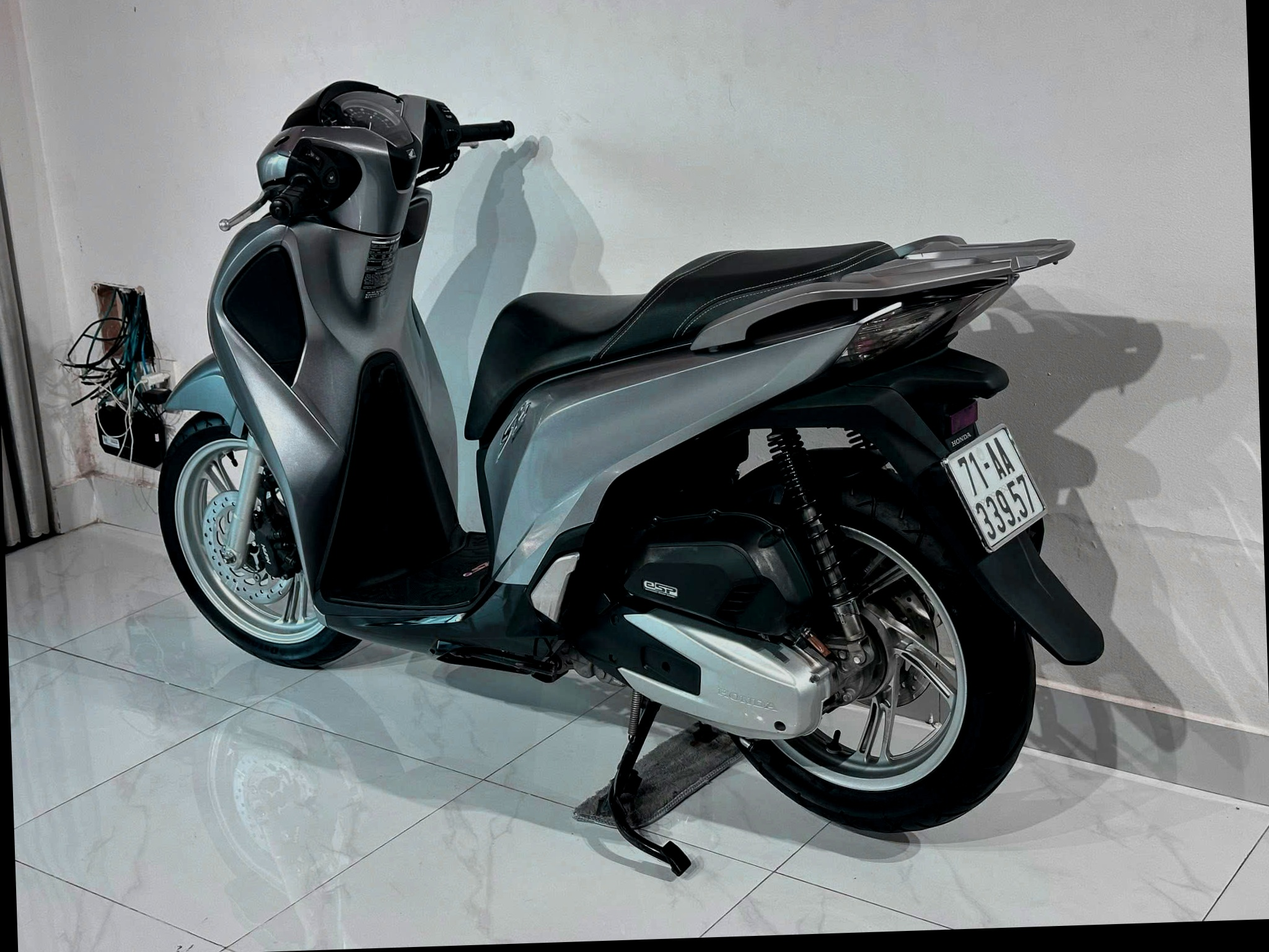Bien-so: (939, 421, 1051, 556)
